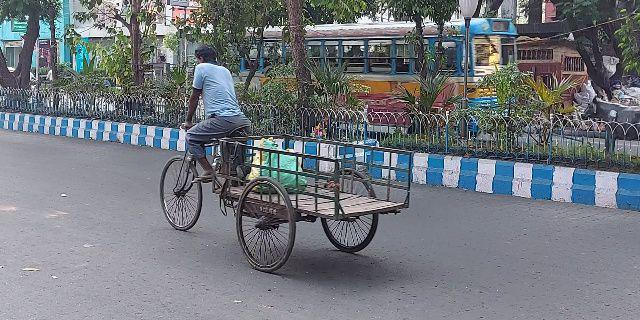Van: (140, 41, 416, 270)
